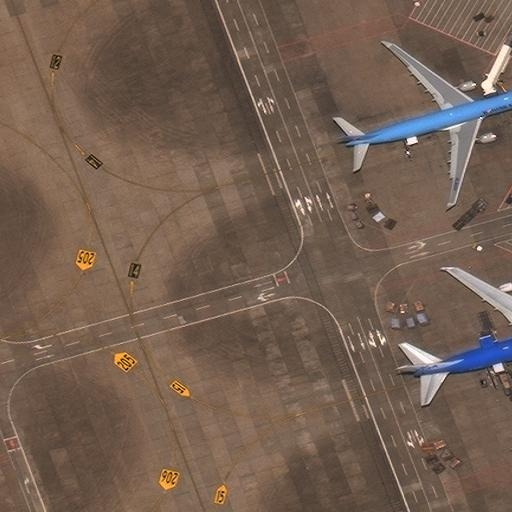Large Civil Transport: (333, 41, 512, 204), (395, 267, 512, 434)
